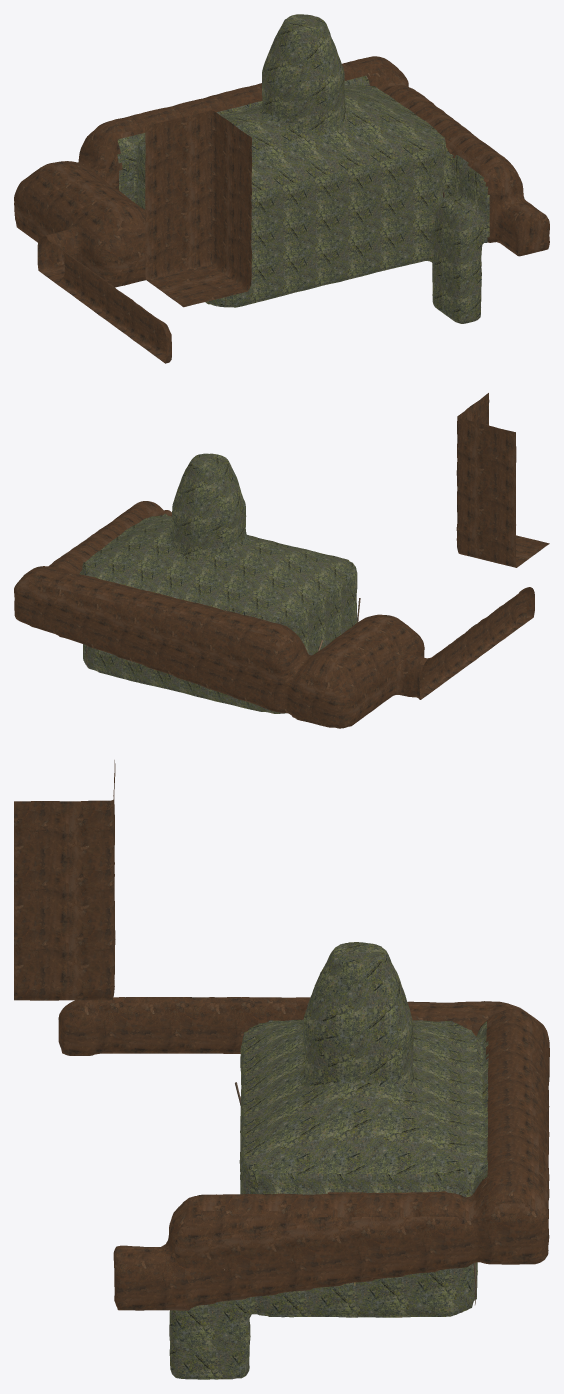
The model's file is earth-root-terrace.glb.
3 renders of one model, top to bottom at view 1: azimuth 30°, elevation 25°; view 2: azimuth 150°, elevation 25°; view 3: azimuth 270°, elevation 25°, orthographic. The views are drawn at different scales.
Parts seen in each view (by area): view 1: ET_Rock_Pit, ET_Rock_Route; view 2: ET_Rock_Route, ET_Rock_Pit; view 3: ET_Rock_Route, ET_Rock_Pit.
Boxes of the visible parts, <box> form: ET_Rock_Pit: <box>117,14,489,323</box>; ET_Rock_Route: <box>14,56,549,363</box>; ET_Rock_Route: <box>14,393,549,728</box>; ET_Rock_Pit: <box>79,453,357,713</box>; ET_Rock_Route: <box>14,760,549,1310</box>; ET_Rock_Pit: <box>169,942,488,1379</box>.
Size of the model in its own units: 36.85 by 25.68 by 31.77.
Materials: 8 (2 with a texture image).
